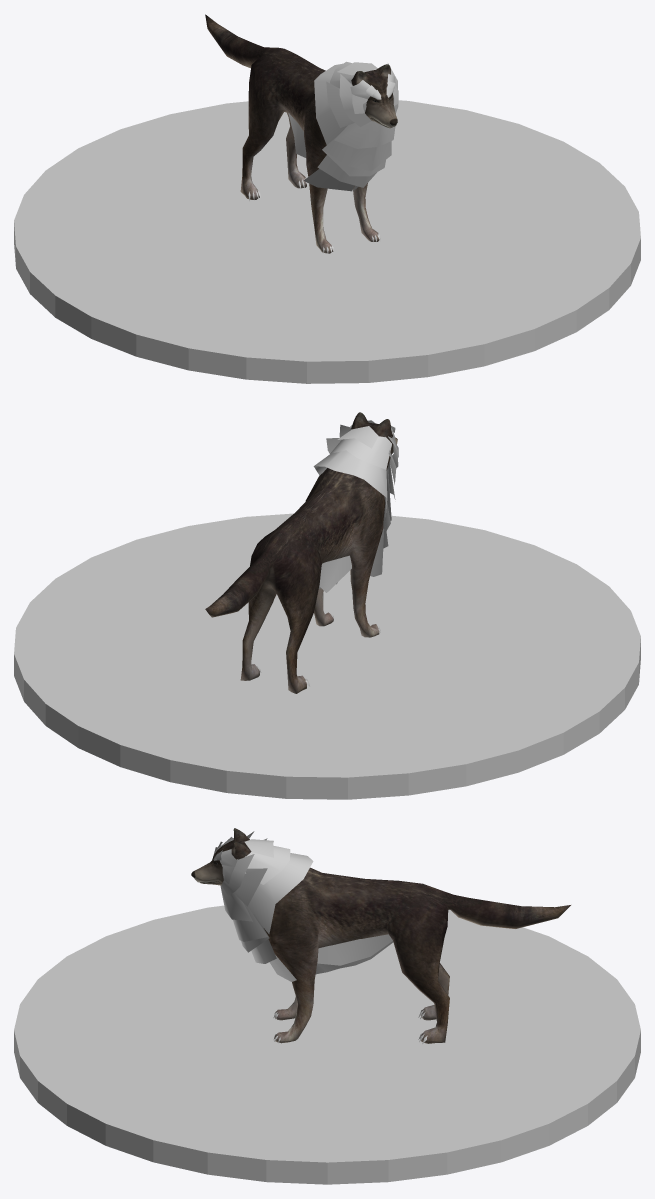
Rendered from Wolf-Blender-2.82a.fbx.
3 views of the same model, one above another, from view 1: azimuth 30°, elevation 25°; view 2: azimuth 150°, elevation 25°; view 3: azimuth 270°, elevation 25° (orthographic).
Parts seen in each view (by area): view 1: Circle, Wolf1_Material__wolf_col_tga_0, Wolf2_fur__fella3_jpg_001_0; view 2: Circle, Wolf1_Material__wolf_col_tga_0, Wolf2_fur__fella3_jpg_001_0; view 3: Circle, Wolf1_Material__wolf_col_tga_0, Wolf2_fur__fella3_jpg_001_0.
Boxes of the visible parts, left/top/right/bottom form: Circle: left=14, top=100, right=640, bottom=383; Wolf1_Material__wolf_col_tga_0: left=205, top=14, right=397, bottom=253; Wolf2_fur__fella3_jpg_001_0: left=288, top=61, right=398, bottom=191; Circle: left=14, top=513, right=640, bottom=799; Wolf1_Material__wolf_col_tga_0: left=205, top=412, right=397, bottom=693; Wolf2_fur__fella3_jpg_001_0: left=313, top=420, right=398, bottom=592; Circle: left=14, top=905, right=640, bottom=1184; Wolf1_Material__wolf_col_tga_0: left=191, top=828, right=570, bottom=1043; Wolf2_fur__fella3_jpg_001_0: left=213, top=831, right=393, bottom=981.
Bounding box in the file's own units: 1.69 × 0.6442 × 1.69.
Materials: 6 (2 with a texture image).
